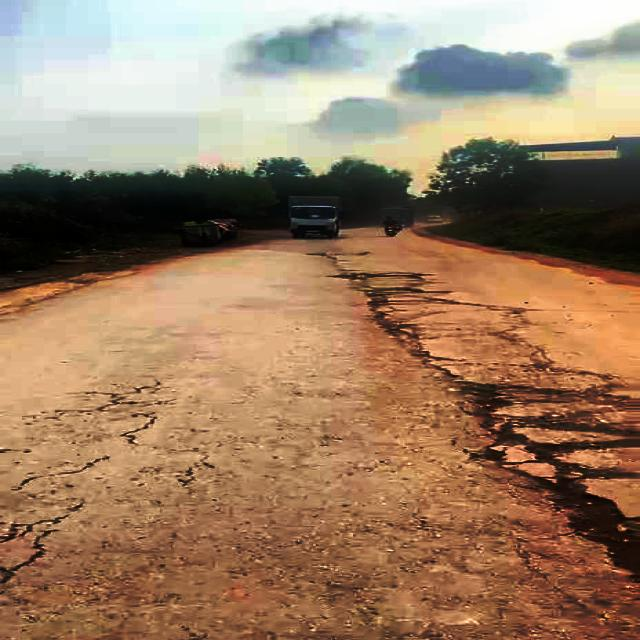pothole: (465, 380, 640, 572)
